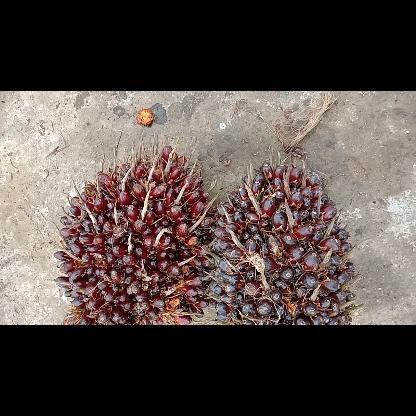Kurang masak: (212, 154, 356, 324)
TBS masak: (52, 144, 208, 324)
